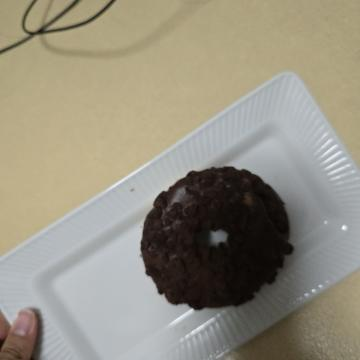doughnut: (153, 56, 321, 234)
